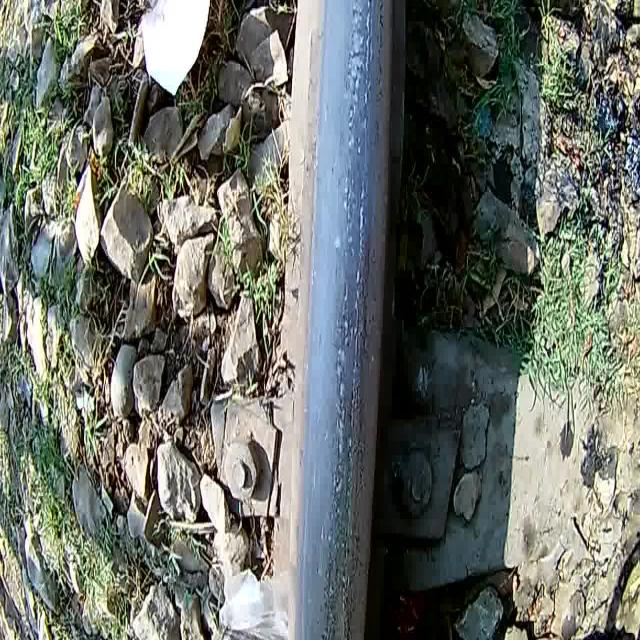Flakings: (318, 0, 376, 640)
Shellings: (374, 0, 389, 113)
